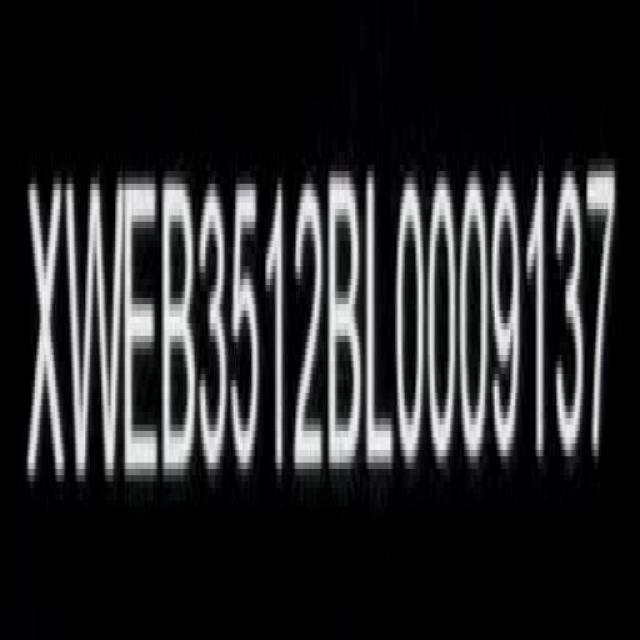0: (396, 173, 430, 474), (428, 173, 458, 472), (460, 174, 490, 470)
1: (263, 171, 288, 490), (525, 167, 549, 472)
2: (294, 174, 330, 488)
3: (552, 162, 584, 468), (200, 182, 230, 488)
5: (232, 172, 261, 488)
7: (589, 154, 621, 471)
9: (491, 173, 524, 471)
B: (160, 175, 198, 489), (328, 167, 363, 481)
E: (124, 171, 160, 493)
L: (365, 170, 395, 477)
W: (68, 166, 124, 497)
X: (27, 171, 70, 497)
